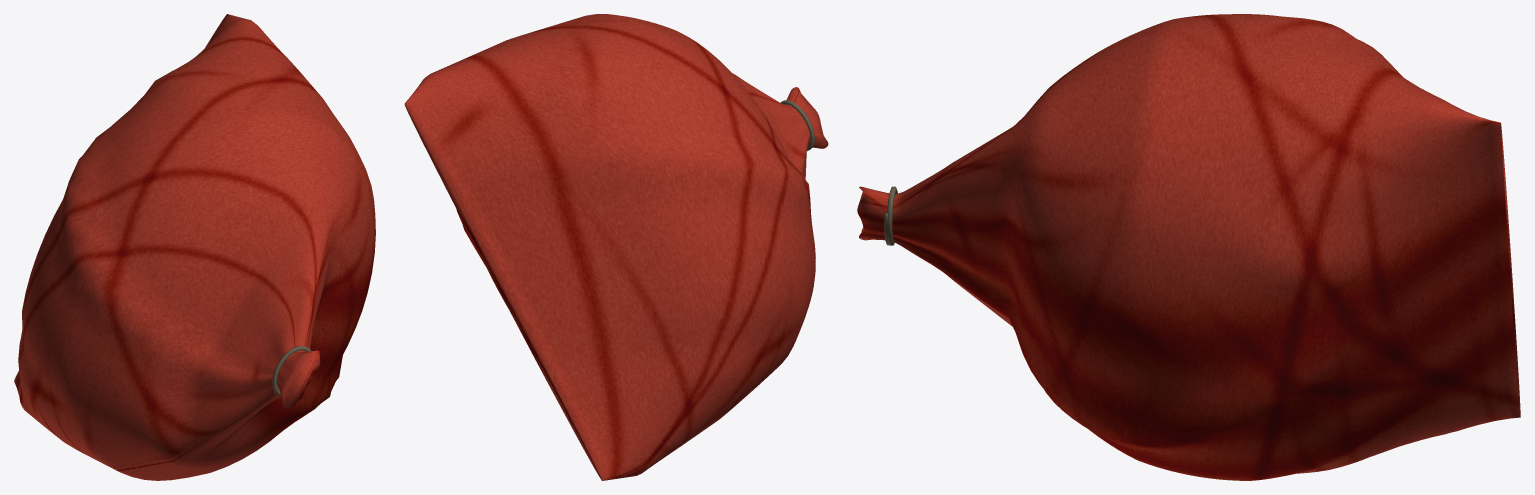
File: peach_01_017.glb
3 views of the same model, side by side, from view 1: azimuth 30°, elevation 25°; view 2: azimuth 150°, elevation 25°; view 3: azimuth 270°, elevation 25° (orthographic). The views are drawn at different scales.
Visible parts, largest first — view 1: export_Tree01/shoot0_4_1/bag; view 2: export_Tree01/shoot0_4_1/bag; view 3: export_Tree01/shoot0_4_1/bag.
Part boxes in pixels (<box>): export_Tree01/shoot0_4_1/bag: <box>14,14,375,480</box>; export_Tree01/shoot0_4_1/bag: <box>404,14,828,480</box>; export_Tree01/shoot0_4_1/bag: <box>857,14,1520,480</box>.
Size of the model in its own units: 0.0987 by 0.1087 by 0.1353.
Materials: 4 (1 with a texture image).
